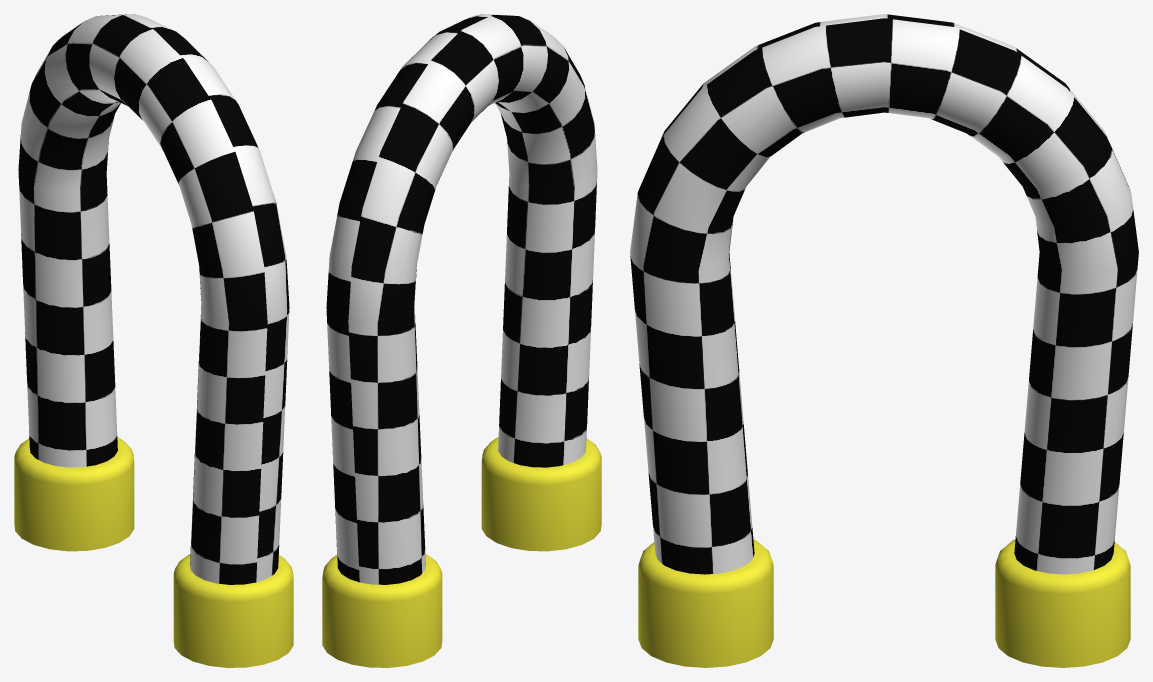
Rendered from FinishDoors.fbx.
3 renders of one model, left to right at view 1: azimuth 30°, elevation 25°; view 2: azimuth 150°, elevation 25°; view 3: azimuth 270°, elevation 25°, orthographic. The views are drawn at different scales.
Visible parts, largest first — view 1: FinishDoors; view 2: FinishDoors; view 3: FinishDoors.
Part boxes in pixels (x1,y1,x2,y2): FinishDoors: (14, 14, 293, 667); FinishDoors: (322, 14, 601, 667); FinishDoors: (630, 14, 1138, 667).
Bounding box in the file's own units: 93.7 × 474 × 352.
Materials: 2 (2 with a texture image).
